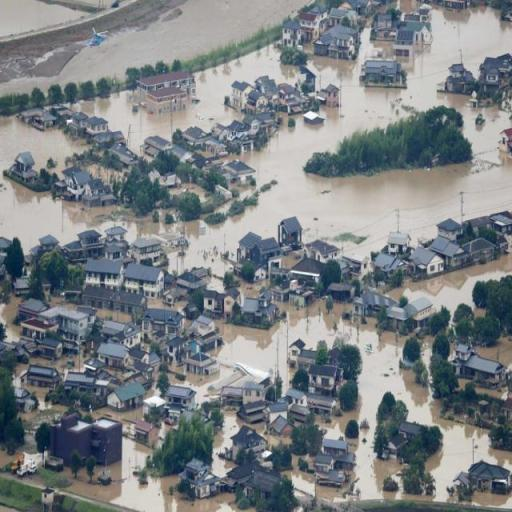flood: (0, 7, 512, 276), (169, 299, 512, 502), (0, 0, 308, 95), (73, 45, 297, 152), (70, 440, 239, 512), (392, 254, 512, 312), (283, 457, 348, 500), (13, 364, 63, 414), (212, 411, 242, 477), (29, 354, 87, 374), (476, 338, 511, 369), (0, 297, 22, 342), (104, 408, 143, 424), (476, 384, 510, 401), (474, 493, 512, 508), (147, 298, 187, 312), (238, 280, 268, 297), (96, 310, 134, 323), (422, 336, 434, 365), (49, 297, 75, 308), (208, 277, 224, 292), (400, 0, 420, 12), (145, 386, 160, 398), (460, 380, 474, 390), (0, 451, 7, 466), (24, 425, 32, 437), (0, 453, 8, 464), (20, 414, 31, 422), (0, 507, 17, 512), (474, 309, 484, 317), (82, 0, 98, 5), (185, 321, 192, 328)
house: (137, 71, 193, 118), (54, 413, 90, 466), (478, 50, 510, 109), (81, 288, 145, 317), (87, 416, 124, 466), (300, 360, 338, 408), (468, 458, 510, 498), (225, 114, 267, 154), (180, 458, 222, 498), (360, 53, 404, 91), (236, 228, 278, 266), (223, 467, 277, 494), (465, 353, 508, 386), (7, 148, 40, 190), (126, 263, 164, 298), (322, 28, 358, 64), (232, 425, 268, 460), (58, 308, 87, 350), (84, 258, 123, 289), (399, 336, 426, 380), (434, 236, 468, 270), (107, 386, 147, 414), (182, 350, 217, 380), (64, 169, 94, 203), (201, 282, 229, 318), (302, 56, 330, 92), (220, 158, 258, 184), (246, 294, 276, 326), (441, 66, 474, 95), (149, 308, 185, 334), (402, 11, 432, 42), (96, 342, 131, 368), (23, 317, 58, 343), (404, 293, 436, 321), (279, 216, 306, 249), (26, 364, 60, 390), (414, 246, 444, 275), (466, 236, 495, 265), (309, 236, 339, 264), (298, 10, 322, 45), (131, 417, 159, 447), (316, 82, 341, 112), (230, 80, 252, 114), (280, 83, 302, 116), (328, 282, 354, 308), (133, 237, 161, 261), (78, 230, 101, 259), (182, 125, 211, 148), (167, 386, 197, 408), (361, 294, 392, 315), (65, 370, 94, 392), (109, 142, 138, 164), (132, 348, 160, 370), (21, 110, 55, 128), (254, 73, 278, 97), (240, 260, 266, 282), (326, 8, 356, 27), (242, 382, 266, 405), (18, 297, 46, 316), (438, 217, 461, 240), (274, 414, 297, 437), (388, 230, 410, 254), (319, 438, 348, 456), (376, 14, 396, 40), (144, 135, 172, 153), (377, 254, 403, 273), (177, 271, 201, 291), (84, 116, 110, 134), (37, 234, 63, 252), (290, 285, 312, 306), (497, 127, 512, 157), (388, 432, 409, 453), (288, 386, 308, 408), (282, 22, 300, 46), (68, 111, 87, 133), (469, 216, 492, 234), (14, 275, 31, 299), (493, 211, 512, 232), (193, 316, 214, 334), (395, 28, 415, 46), (441, 0, 472, 11), (314, 456, 335, 472), (87, 179, 104, 198), (453, 471, 470, 489), (304, 110, 325, 124), (212, 122, 227, 140), (0, 236, 12, 258)
